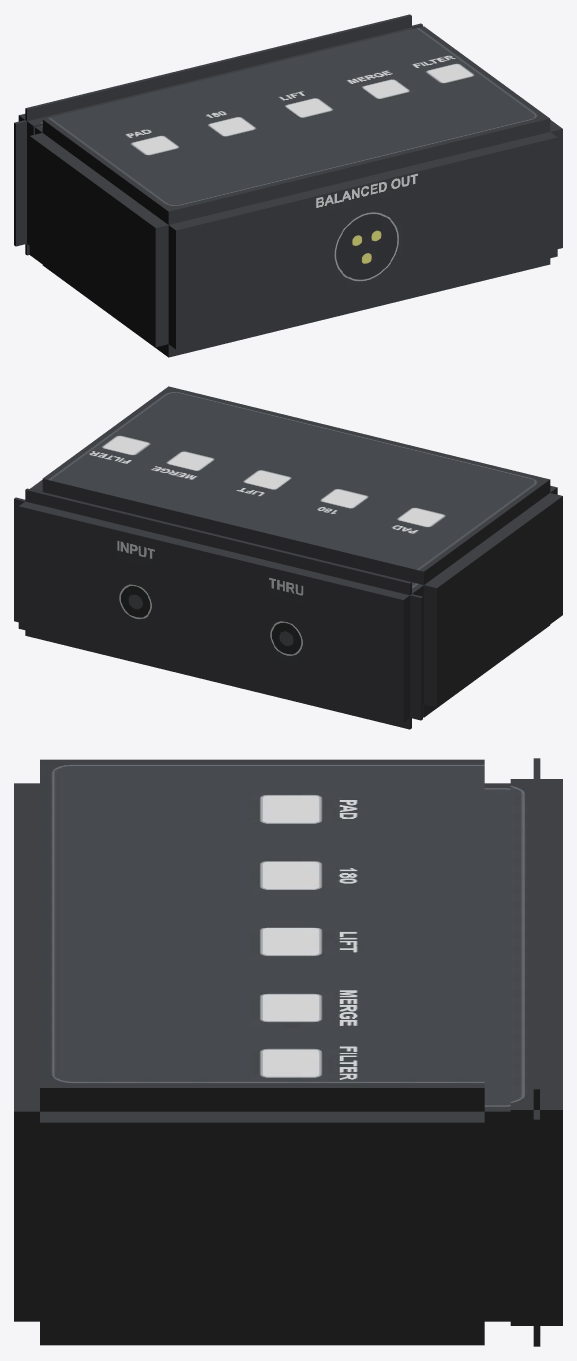
File: radial-jdi.glb
The picture shows the model from 3 angles, top to bottom: view 1: azimuth 30°, elevation 25°; view 2: azimuth 150°, elevation 25°; view 3: azimuth 270°, elevation 25°; orthographic projection. The views are drawn at different scales.
Parts seen in each view (by area): view 1: radial-jdi-body; view 2: radial-jdi-body; view 3: radial-jdi-body.
Part boxes in pixels (x1,y1,x2,y2): radial-jdi-body: (14,14,562,357); radial-jdi-body: (14,386,562,729); radial-jdi-body: (14,758,562,1346).
Bounding box in the file's own units: 0.127 × 0.0455 × 0.0841.
1 material, 1 textured.
